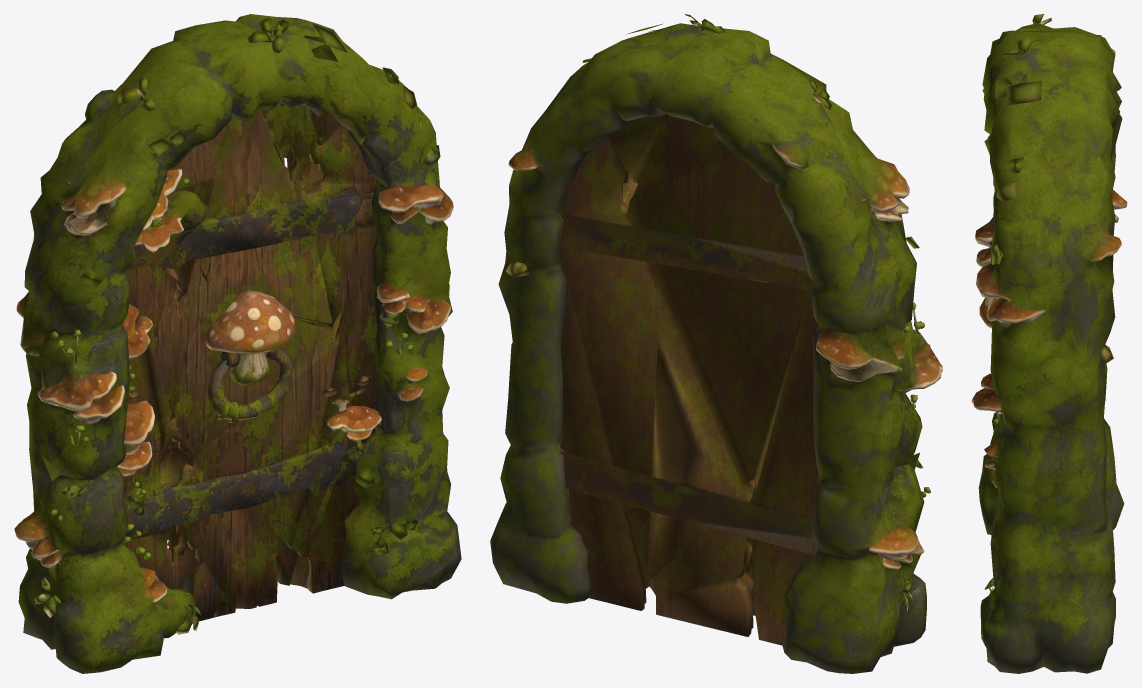
File: dp_m_porte.glb
3 views of the same model, side by side, from view 1: azimuth 30°, elevation 25°; view 2: azimuth 150°, elevation 25°; view 3: azimuth 270°, elevation 25° (orthographic). The views are drawn at different scales.
Bounding box in the file's own units: 0.709 × 0.9526 × 0.2427.
1 material, 1 textured.
